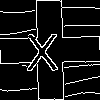X: (25, 25, 59, 71)
